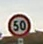limite 50: (8, 12, 30, 36)
